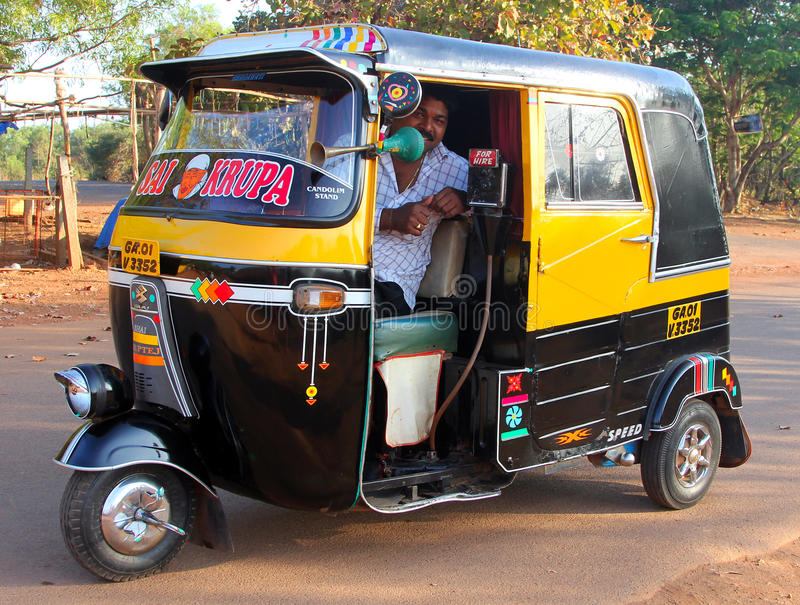autorickshaw: (44, 15, 766, 585)
